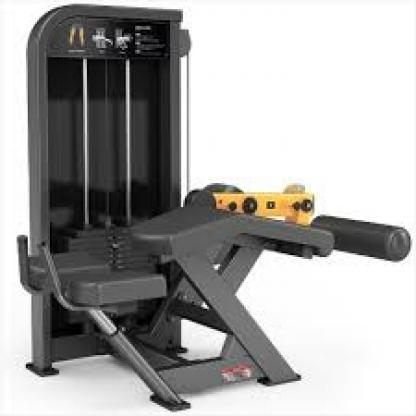reg curl machine: (15, 4, 413, 413)
